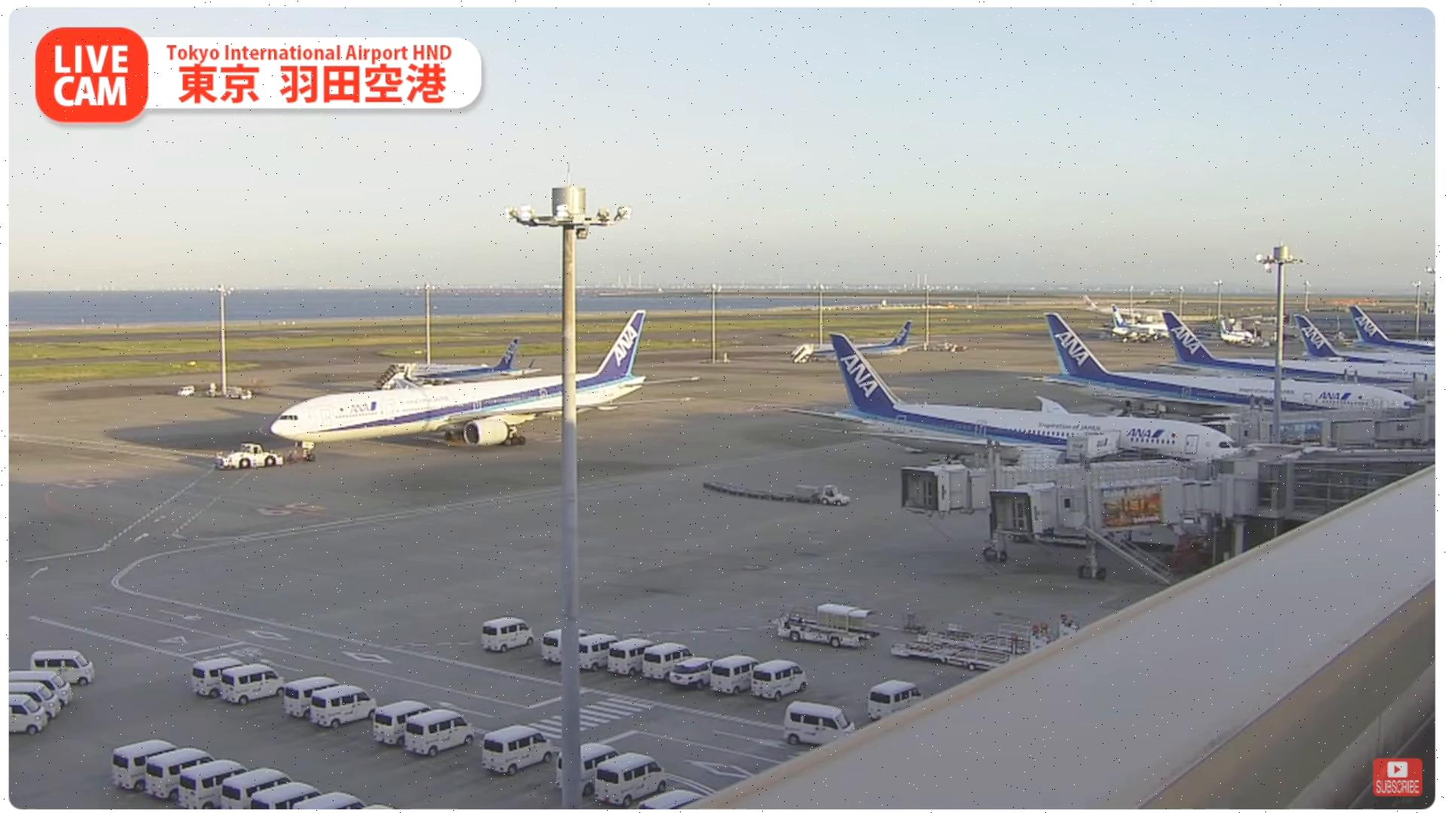APS: (216, 442, 281, 474)
Aerobridge: (992, 474, 1253, 544), (897, 462, 1214, 513)
Airplane: (265, 310, 696, 445)
Dolly: (703, 480, 823, 504)
JCPL: (918, 617, 1080, 654), (891, 641, 1014, 668)
Skyloader: (769, 599, 883, 648)
Tractor: (818, 484, 851, 507)
Window: (1253, 443, 1435, 520)
